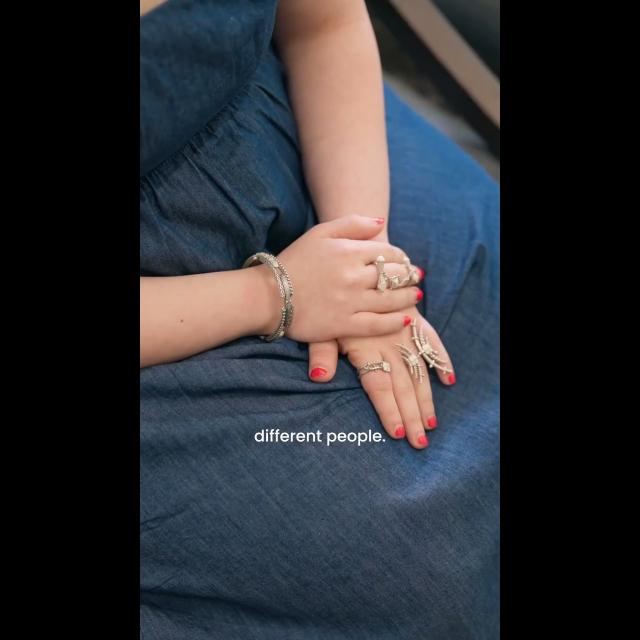ring: (400, 318, 450, 378), (366, 252, 418, 292), (355, 358, 391, 378)
